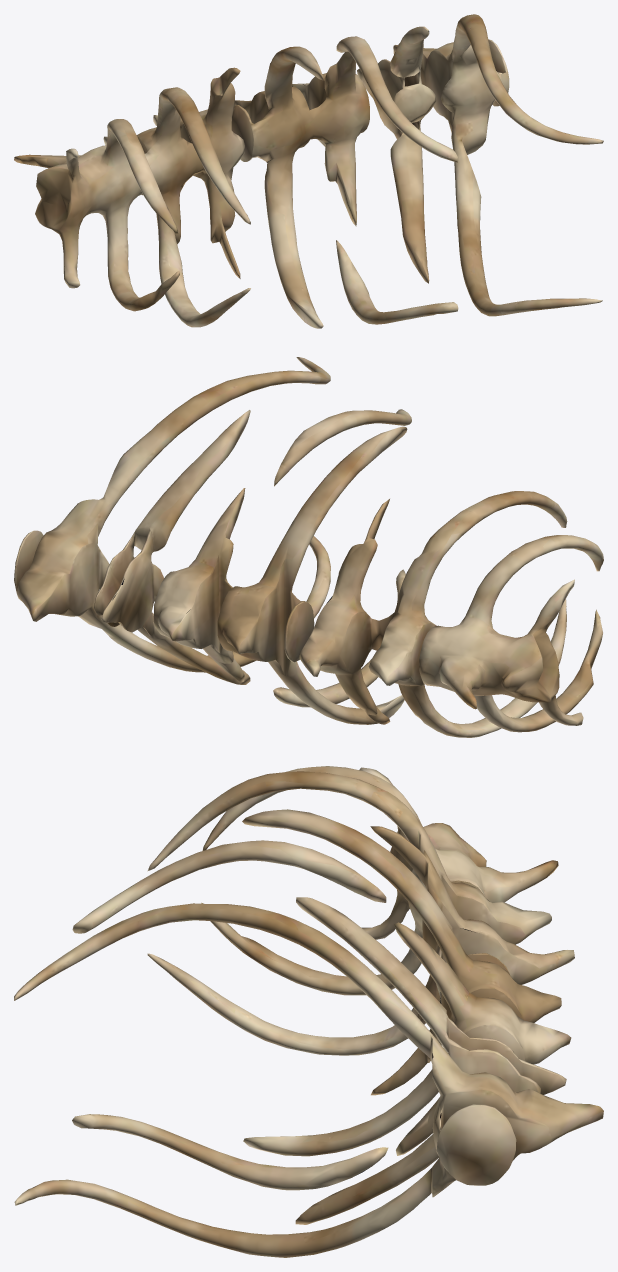
Rendered from bone_shard_m.glb.
The picture shows the model from 3 angles, top to bottom: view 1: azimuth 30°, elevation 25°; view 2: azimuth 150°, elevation 25°; view 3: azimuth 270°, elevation 25°; orthographic projection. The views are drawn at different scales.
Parts seen in each view (by area): view 1: bone_shard_m; view 2: bone_shard_m; view 3: bone_shard_m.
Part boxes in pixels (x1,y1,x2,y2): bone_shard_m: (14, 14, 603, 328); bone_shard_m: (14, 357, 603, 737); bone_shard_m: (14, 766, 603, 1257).
Bounding box in the file's own units: 0.3 × 0.1623 × 0.2521.
Materials: 1 (1 with a texture image).
